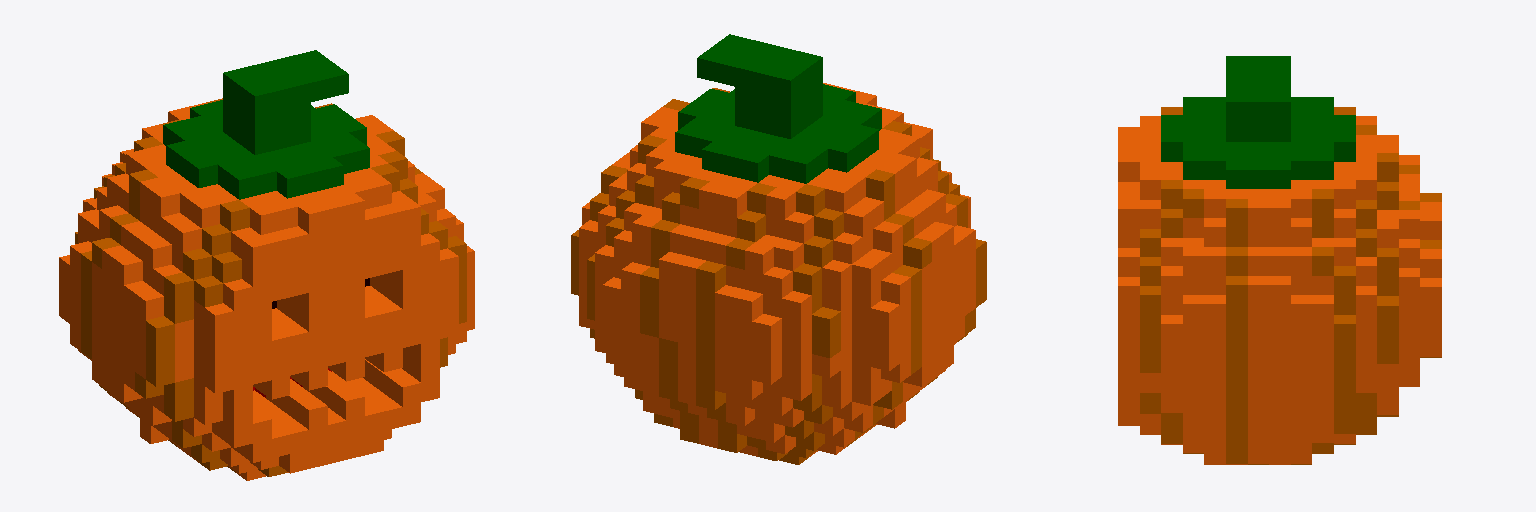
3 views of the same model, side by side, from view 1: azimuth 30°, elevation 25°; view 2: azimuth 150°, elevation 25°; view 3: azimuth 270°, elevation 25° (orthographic).
Visible parts, largest first — view 1: object 1; view 2: object 1; view 3: object 1.
Part boxes in pixels (bbox=[...]): object 1: bbox=[59, 50, 474, 480]; object 1: bbox=[571, 34, 986, 464]; object 1: bbox=[1118, 56, 1441, 464].
Bounding box in the file's own units: 1.7 × 1.9 × 1.5.
1 materials, 1 textured.